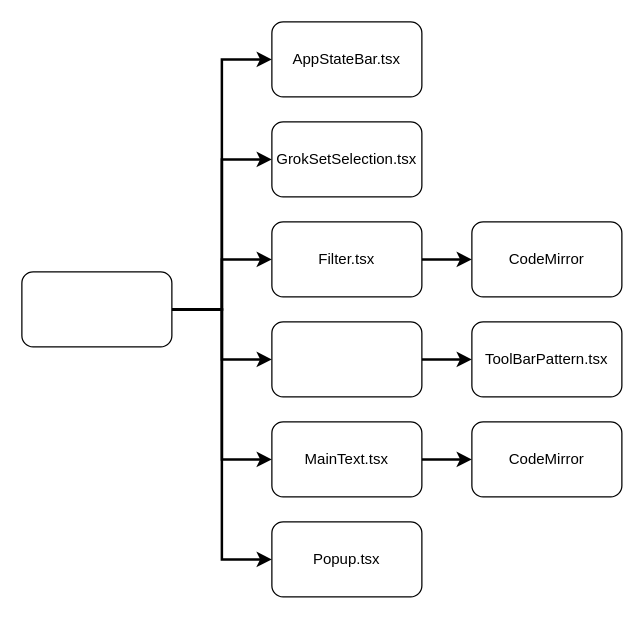
This 644x619 diagram has some shape labels left out. The centre of each missing label's shape, as x and y in pixels:
"App.tsx" belongs at pixel 96 309.
"ToolBar.tsx" belongs at pixel 346 359.
